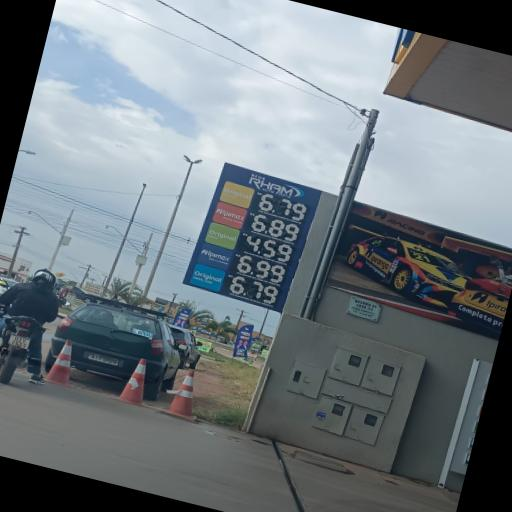ETANOL: (209, 200, 247, 229), (204, 223, 241, 249)
GASOLINA C: (218, 181, 255, 208)
S10: (195, 241, 236, 271)
S500: (189, 263, 225, 291)
placa: (183, 159, 319, 314)
preco: (235, 252, 288, 287), (247, 212, 303, 245), (243, 234, 296, 268), (228, 275, 282, 308), (258, 191, 307, 224)
